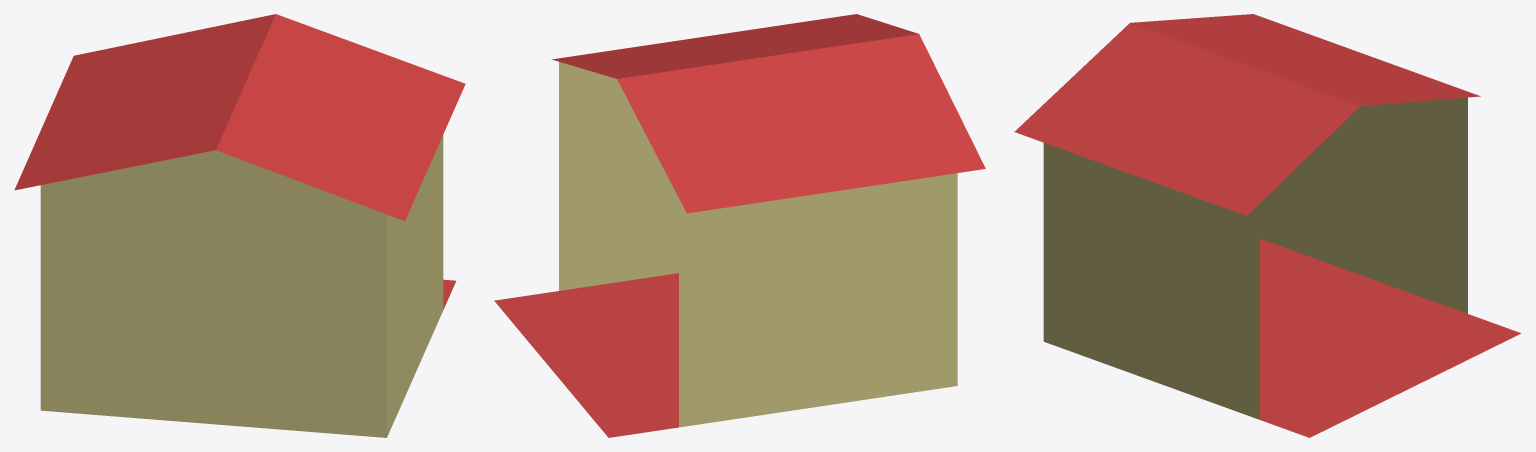
3 views of the same model, side by side, from view 1: azimuth 30°, elevation 25°; view 2: azimuth 150°, elevation 25°; view 3: azimuth 270°, elevation 25° (orthographic). The views are drawn at different scales.
Parts seen in each view (by area): view 1: group_5, group_3, group_4; view 2: group_5, group_3, group_6, group_4; view 3: group_5, group_3, group_6, group_4.
Boxes of the visible parts, x1,y1,x2,y2 form: group_5: (40,135,443,437); group_3: (14,14,465,221); group_4: (15,52,462,220); group_5: (559,62,957,427); group_3: (551,14,985,213); group_6: (494,273,678,437); group_4: (556,15,983,211); group_5: (1043,97,1467,419); group_3: (1014,14,1480,215); group_6: (1260,239,1520,437); group_4: (1017,14,1477,215).
Size of the model in its own units: 12.09 by 12.15 by 6.94.
